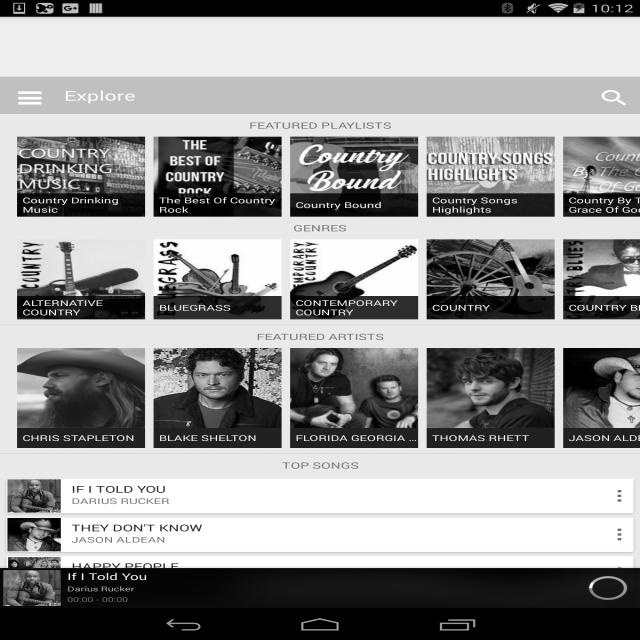ImageButton: (0, 79, 60, 117)
ImageView: (17, 136, 145, 216), (154, 136, 282, 216), (290, 136, 418, 216), (426, 136, 554, 216), (17, 240, 145, 320), (154, 240, 282, 320), (290, 240, 418, 320), (426, 240, 554, 320), (17, 348, 145, 428), (154, 348, 282, 428), (290, 348, 418, 428), (426, 348, 554, 428), (563, 136, 640, 216), (563, 240, 640, 320), (563, 348, 640, 428), (0, 568, 64, 608), (576, 568, 640, 608), (7, 479, 61, 513), (7, 595, 61, 629), (7, 518, 61, 551), (7, 557, 61, 590), (607, 488, 632, 504), (607, 526, 632, 542), (607, 566, 632, 582), (607, 604, 632, 620)
TextView: (0, 459, 640, 472), (0, 120, 640, 132), (0, 222, 640, 234), (0, 330, 640, 342), (71, 521, 607, 534), (71, 560, 607, 573), (67, 570, 576, 583), (71, 483, 607, 495), (71, 572, 607, 584), (71, 599, 607, 611), (71, 534, 607, 545), (67, 593, 576, 604), (71, 496, 607, 506), (67, 583, 576, 593), (17, 297, 145, 318), (290, 297, 418, 318), (17, 195, 145, 215), (154, 195, 282, 215), (426, 195, 554, 215), (589, 82, 640, 114), (563, 195, 640, 215), (154, 302, 282, 313), (426, 302, 554, 313), (17, 432, 145, 443), (154, 432, 282, 443), (290, 432, 418, 443), (426, 432, 554, 443), (64, 86, 135, 105), (290, 200, 418, 210), (563, 302, 640, 313), (563, 432, 640, 443)
